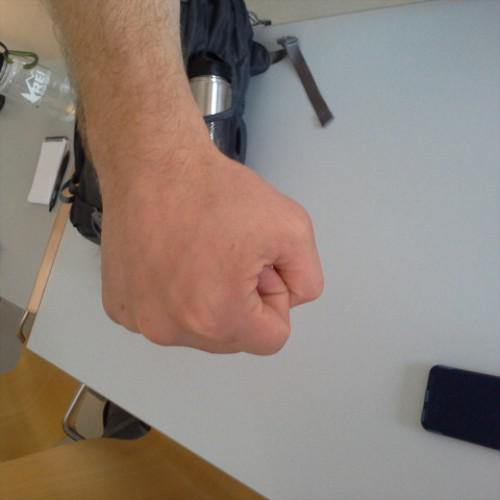rock: (77, 130, 330, 371)
